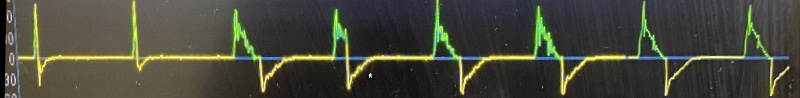hydrop_flow: (9, 0, 788, 98)
